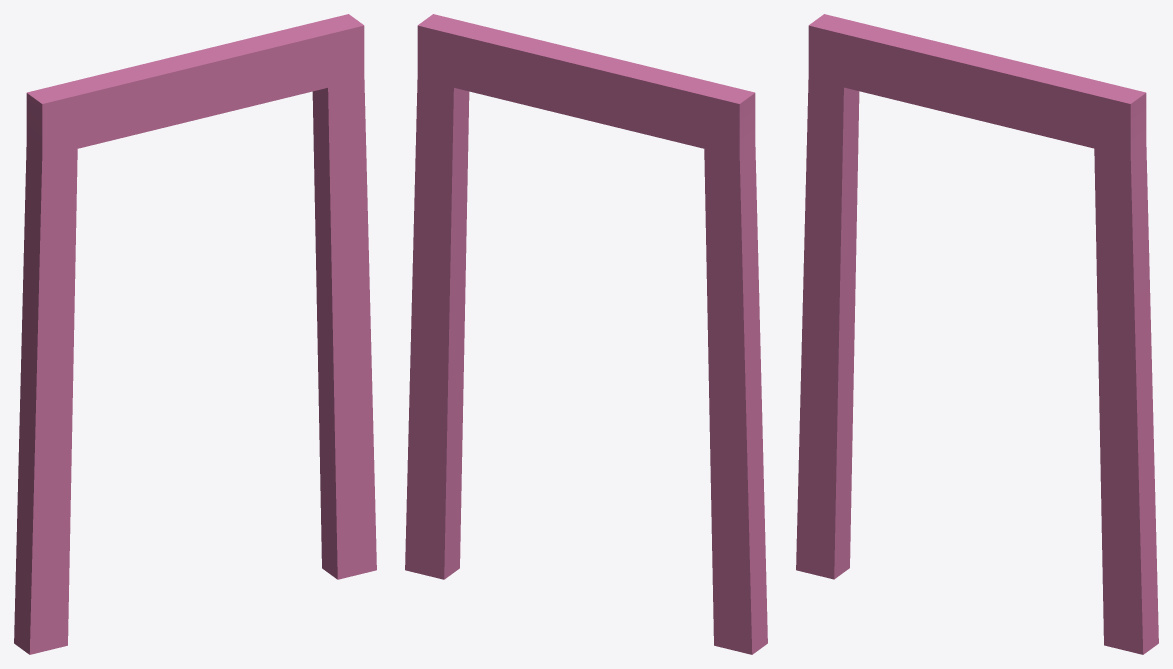
Rendered from Door.fbx.
The picture shows the model from 3 angles, left to right: view 1: azimuth 30°, elevation 25°; view 2: azimuth 150°, elevation 25°; view 3: azimuth 330°, elevation 25°; orthographic projection.
Visible parts, largest first — view 1: Door; view 2: Door; view 3: Door.
Part boxes in pixels (x1,y1,x2,y2): Door: (14,14,376,654); Door: (405,14,767,654); Door: (796,14,1158,654).
Size of the model in its own units: 95.95 by 145 by 7.53.
